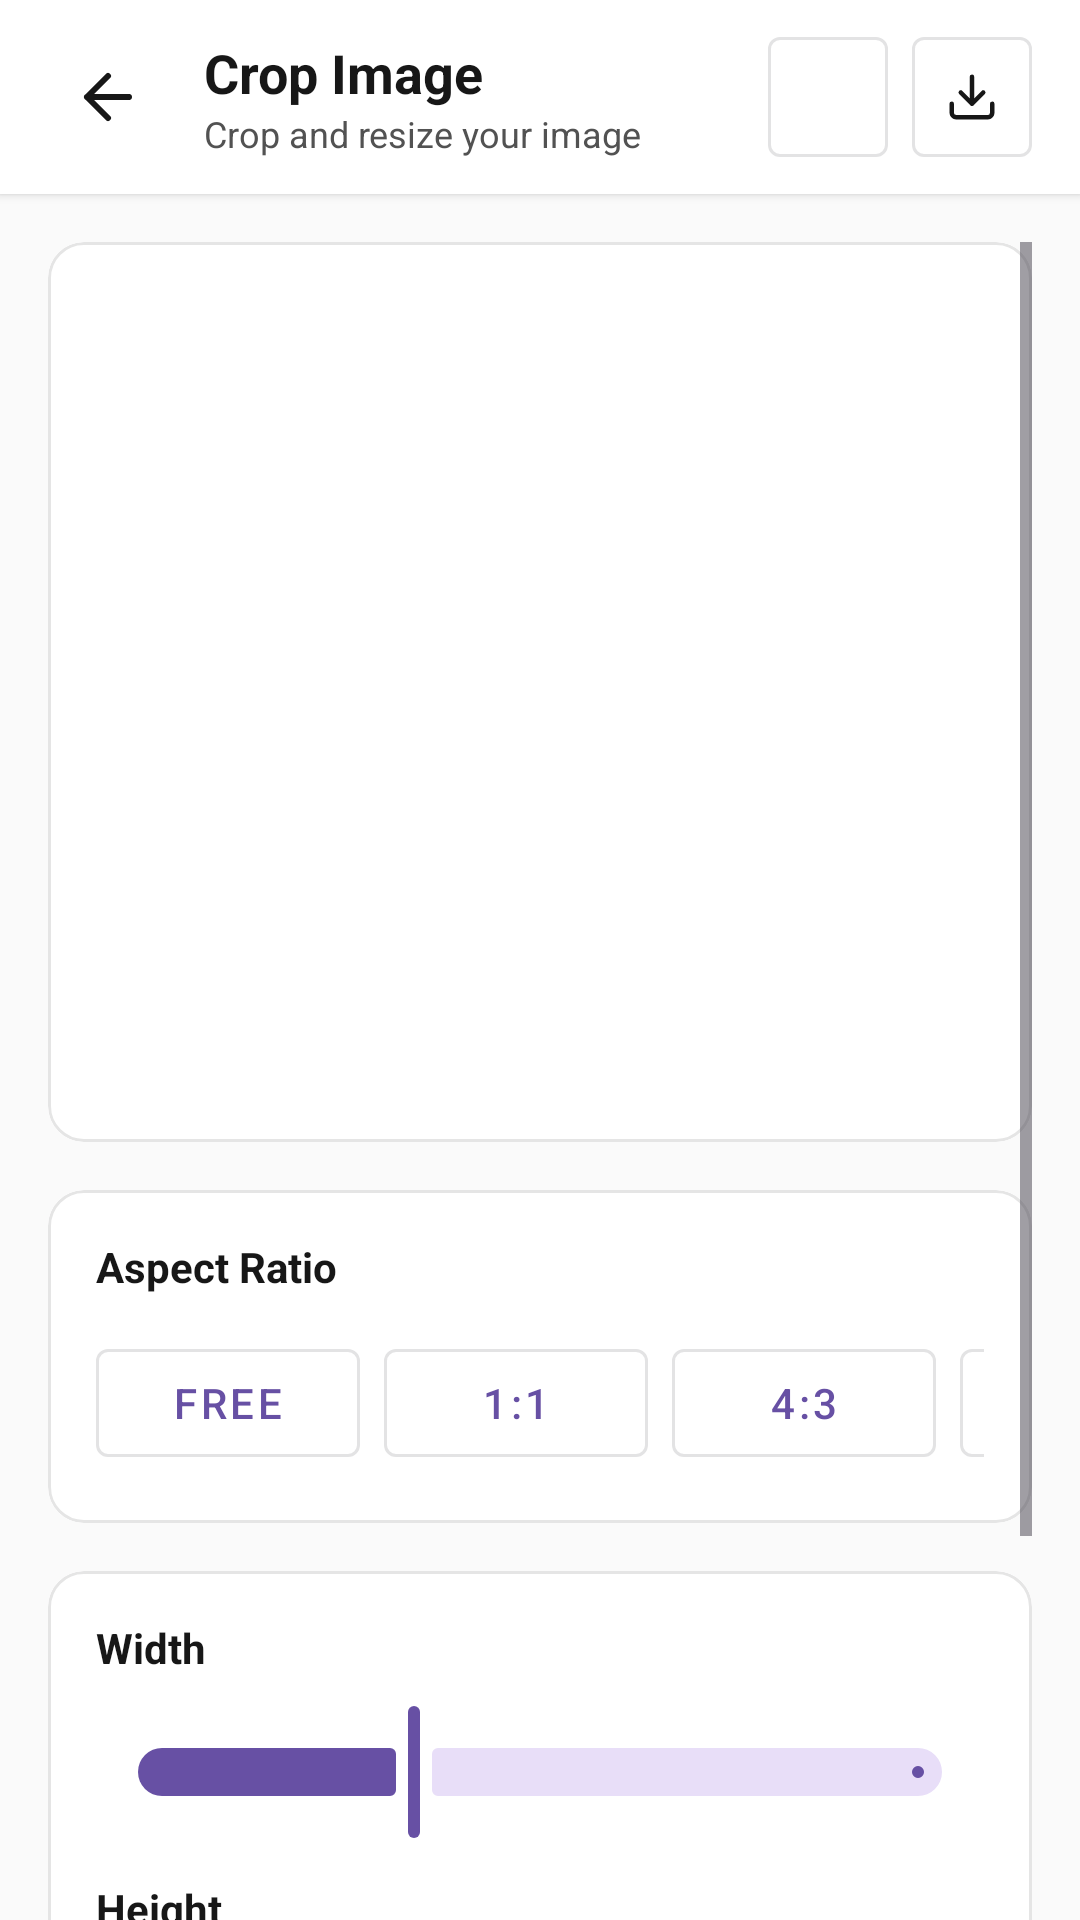

Where icons sit on this 1080px x 1920px app screen, as (x1,y1,x2,y2):
arrow left: (84,73,132,121)
download: (912,37,1032,157)
